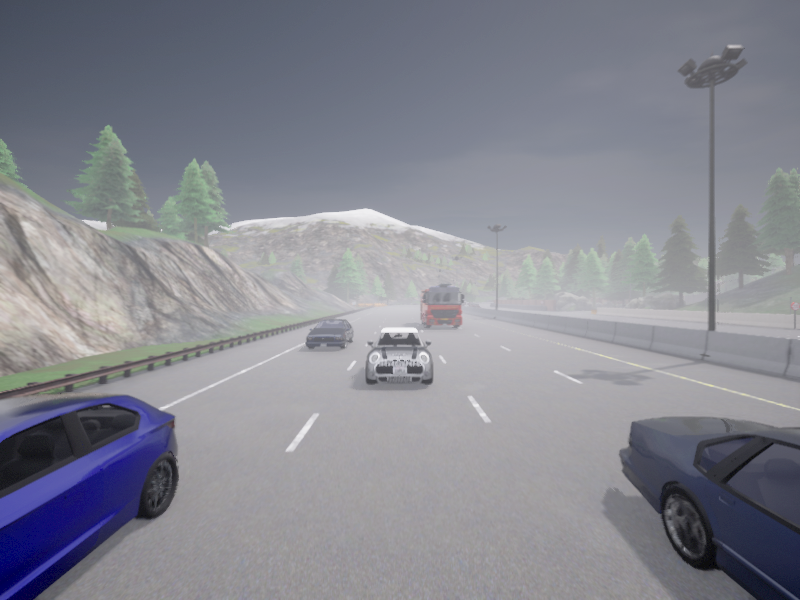vehicle: (0, 392, 177, 599), (618, 417, 799, 599), (366, 328, 432, 384), (420, 283, 463, 328), (305, 319, 353, 349), (468, 303, 478, 307), (464, 301, 467, 305), (461, 303, 464, 305), (468, 302, 470, 305), (476, 302, 479, 304)
